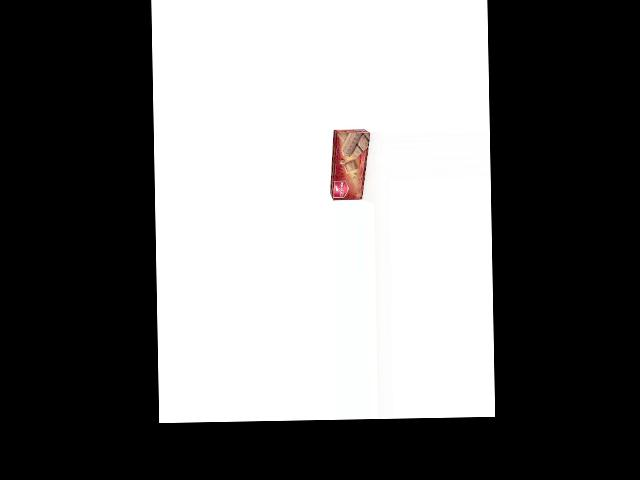chocolate: (328, 130, 372, 200)
